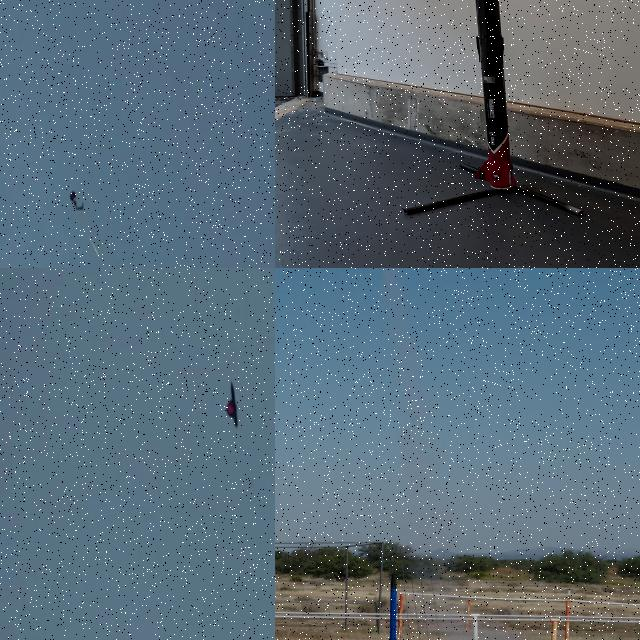Rocket: (474, 0, 517, 190), (379, 572, 405, 640)
